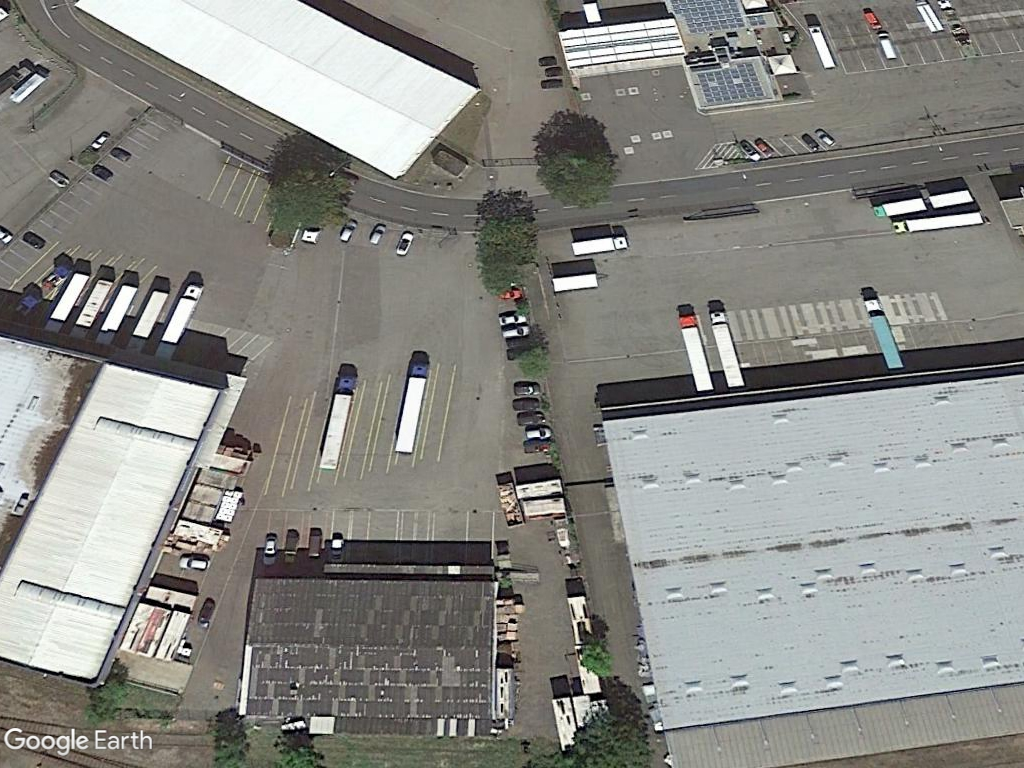car: (177, 550, 214, 574)
longvehicle: (853, 287, 909, 371), (319, 367, 358, 475), (395, 352, 434, 458), (674, 307, 715, 396), (708, 297, 748, 385), (888, 208, 991, 240)
truck: (566, 230, 628, 259)
